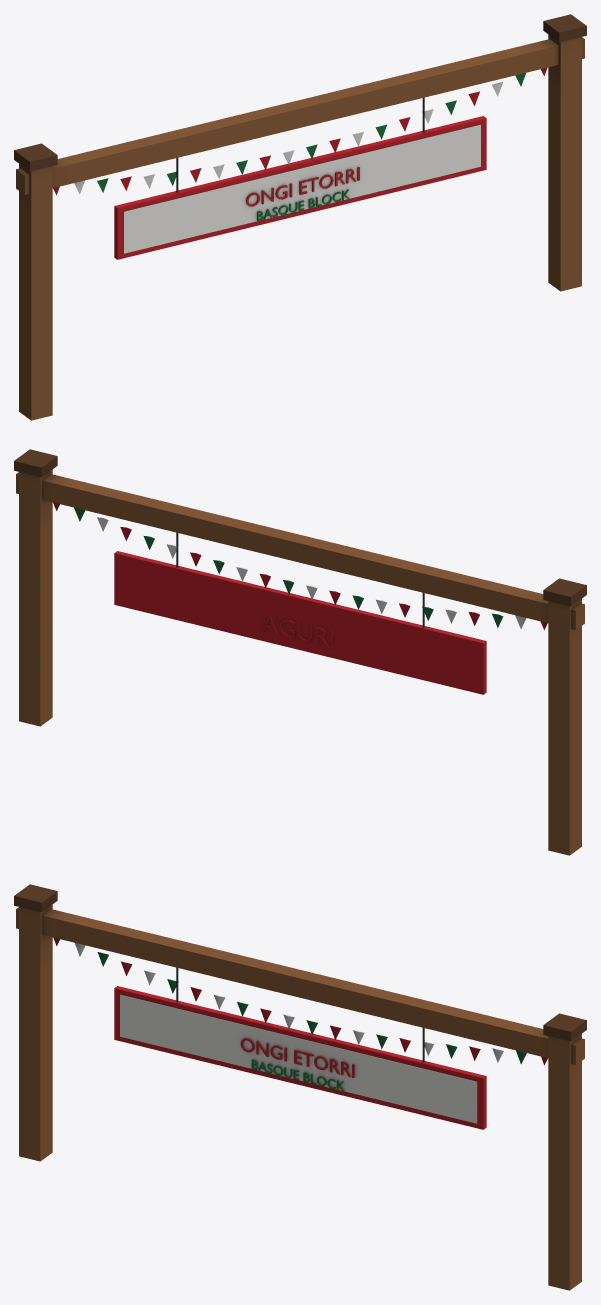
Rendered from arco_vasco.glb.
3 renders of one model, top to bottom at view 1: azimuth 30°, elevation 25°; view 2: azimuth 150°, elevation 25°; view 3: azimuth 330°, elevation 25°, orthographic.
Visible parts, largest first — view 1: arco_vasco; view 2: arco_vasco; view 3: arco_vasco.
Boxes of the visible parts, bbox=[...] form: arco_vasco: bbox=[14, 14, 586, 420]; arco_vasco: bbox=[14, 449, 586, 855]; arco_vasco: bbox=[14, 884, 586, 1290].
Bounding box in the file's own units: 18.2 × 8.1 × 0.9.
1 material, 1 textured.
